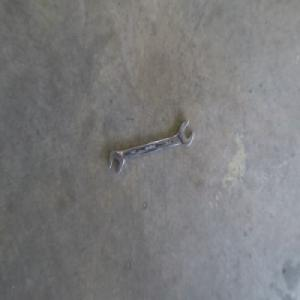Wrench: (108, 119, 195, 175)
